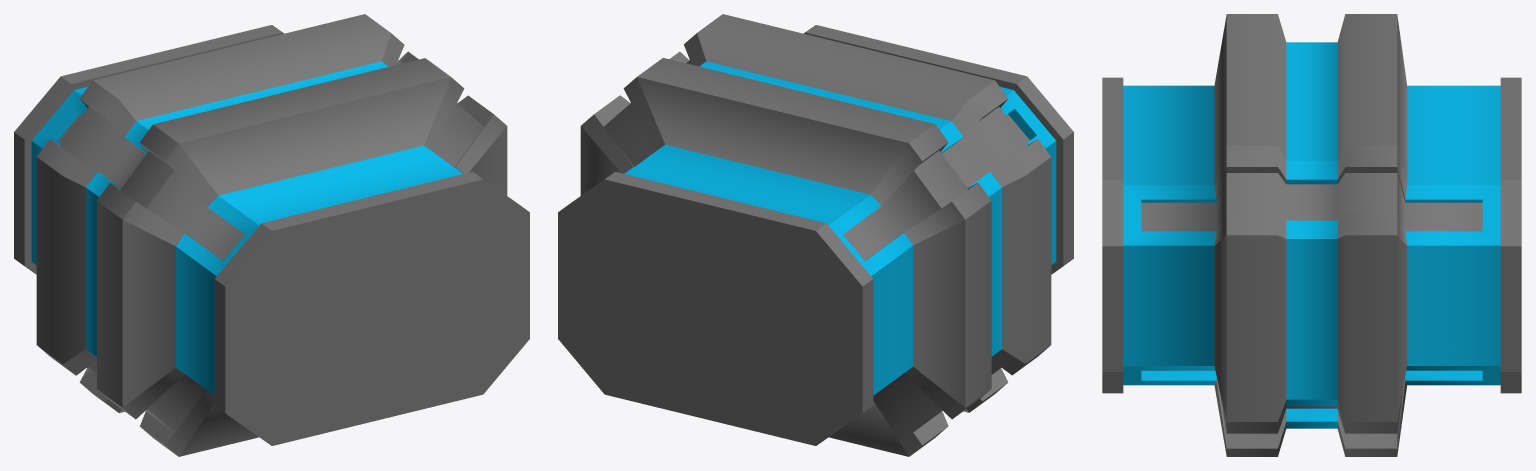
The model's file is _1Ship_PIece32.fbx.
3 views of the same model, side by side, from view 1: azimuth 30°, elevation 25°; view 2: azimuth 150°, elevation 25°; view 3: azimuth 270°, elevation 25° (orthographic).
Parts seen in each view (by area): view 1: Ship_PIece32; view 2: Ship_PIece32; view 3: Ship_PIece32.
Boxes of the visible parts, x1,y1,x2,y2 form: Ship_PIece32: (14, 14, 529, 456); Ship_PIece32: (558, 14, 1073, 456); Ship_PIece32: (1102, 14, 1521, 456).
Bounding box in the file's own units: 306 × 238 × 291.
